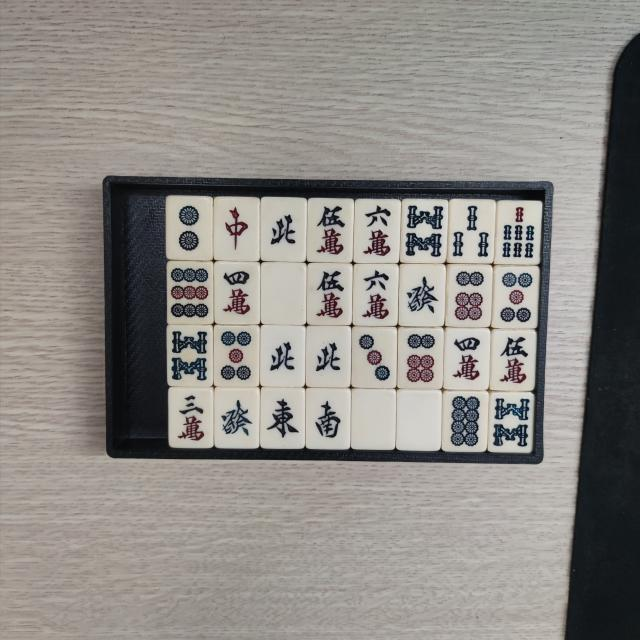hdg: (402, 266, 442, 322), (219, 391, 257, 446)
hdr: (217, 200, 254, 256)
hdw: (265, 267, 304, 322), (403, 394, 439, 448), (356, 394, 392, 447)
hwe: (265, 392, 302, 446)
hwn: (265, 200, 303, 258), (266, 329, 302, 384), (312, 329, 348, 384)
hws: (310, 392, 346, 447)
sb3: (451, 202, 492, 259)
sb7: (501, 204, 538, 262)
sb8: (404, 202, 446, 260), (170, 328, 210, 384), (491, 395, 530, 450)
sc3: (173, 391, 210, 446)
sc4: (217, 266, 255, 320), (448, 331, 486, 385)
sc5: (312, 200, 350, 258), (494, 333, 531, 388), (312, 266, 348, 322)
sc6: (358, 202, 396, 260), (358, 266, 395, 322)
sd2: (170, 200, 208, 256)
sd3: (356, 330, 394, 386)
sd5: (496, 268, 535, 326), (217, 329, 256, 384)
sd6: (450, 268, 488, 324), (402, 332, 440, 386)
sd8: (448, 394, 484, 450)
sd9: (169, 266, 210, 322)
